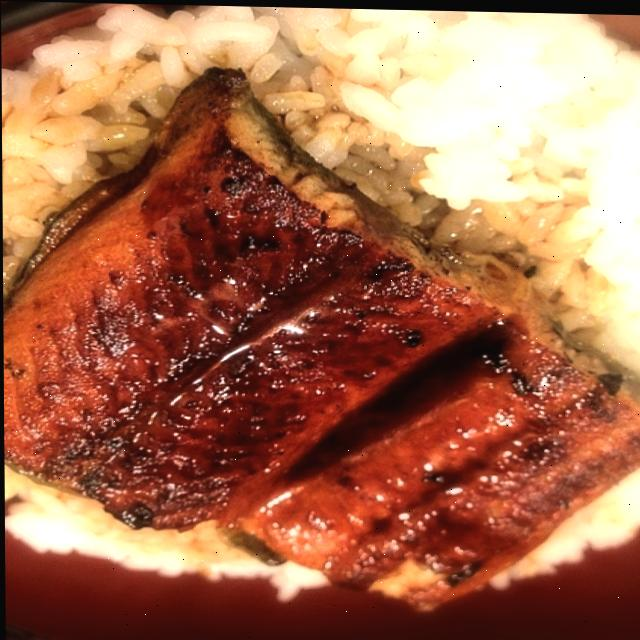熟制海鲜: (0, 11, 640, 635)
